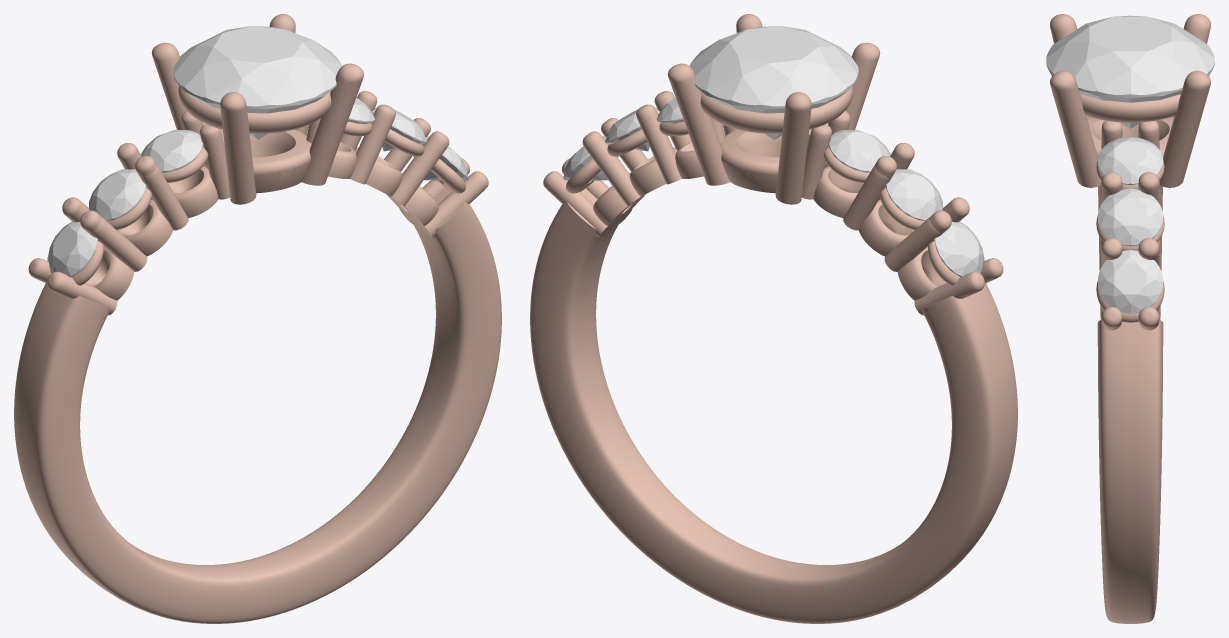
Rendered from diamond-round-rosegold-4prong-straighttaperedband-3stone.glb.
3 views of the same model, side by side, from view 1: azimuth 30°, elevation 25°; view 2: azimuth 150°, elevation 25°; view 3: azimuth 270°, elevation 25° (orthographic).
Visible parts, largest first — view 1: metal, stone, side.001, side.002, side, side.004; view 2: metal, stone, side.001, side.002, side, side.004; view 3: metal, stone, side.005, side.004, side.003.
Part boxes in pixels (<box>): metal: <box>14,14,501,623</box>; stone: <box>173,26,341,139</box>; side.001: <box>89,169,146,220</box>; side.002: <box>47,221,97,277</box>; side: <box>141,130,202,172</box>; side.004: <box>372,107,426,151</box>; metal: <box>530,14,1017,623</box>; stone: <box>690,26,858,139</box>; side.001: <box>885,169,942,220</box>; side.002: <box>934,221,984,277</box>; side: <box>829,130,890,172</box>; side.004: <box>605,107,659,151</box>; metal: <box>1050,14,1210,623</box>; stone: <box>1046,15,1214,128</box>; side.005: <box>1097,250,1163,313</box>; side.004: <box>1097,188,1163,246</box>; side.003: <box>1097,137,1163,184</box>.
Bounding box in the file's own units: 20.51 × 23.82 × 6.44.
